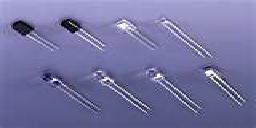LED: (8, 20, 59, 56), (59, 18, 103, 55), (37, 71, 78, 107), (113, 17, 150, 54), (91, 67, 121, 96), (141, 61, 170, 85)
